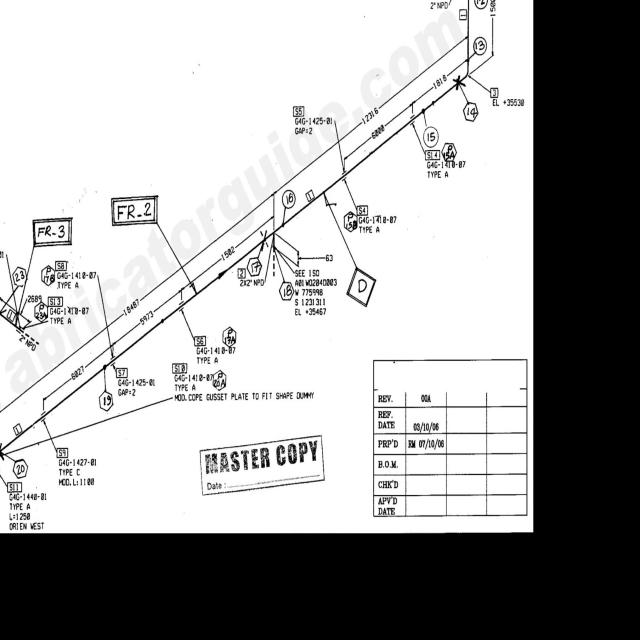Item number: (8, 480, 24, 494), (172, 361, 188, 375), (424, 148, 440, 161), (304, 186, 315, 203), (193, 334, 207, 347), (48, 295, 63, 307), (12, 420, 23, 436), (116, 366, 129, 379), (291, 105, 305, 117), (54, 259, 68, 270), (56, 446, 68, 458), (356, 203, 368, 215), (490, 86, 499, 101), (459, 7, 467, 21), (236, 267, 245, 279)
Measrement: (3, 195, 275, 415), (273, 30, 467, 199), (111, 285, 183, 350), (342, 99, 414, 162), (190, 224, 264, 285), (43, 340, 113, 404), (409, 57, 466, 110), (295, 250, 339, 268), (489, 0, 497, 59)
Pipeline: (11, 24, 475, 455)
Symbol: (453, 72, 469, 90), (1, 443, 7, 461)
Weld number: (422, 124, 440, 149), (462, 99, 479, 124), (246, 256, 263, 278), (12, 265, 28, 288), (98, 389, 114, 412), (222, 324, 237, 347), (282, 188, 297, 211), (13, 458, 29, 479), (40, 265, 56, 286), (442, 141, 456, 164), (473, 35, 487, 56), (472, 0, 488, 11)
other: (174, 372, 311, 402), (280, 262, 338, 317), (112, 194, 160, 229), (8, 492, 49, 532), (33, 216, 74, 248), (56, 457, 99, 487), (350, 213, 399, 234), (47, 305, 91, 327), (425, 158, 466, 180), (291, 116, 334, 136), (117, 377, 156, 397), (195, 345, 236, 364), (57, 270, 98, 289), (492, 96, 525, 108), (427, 1, 450, 11)
